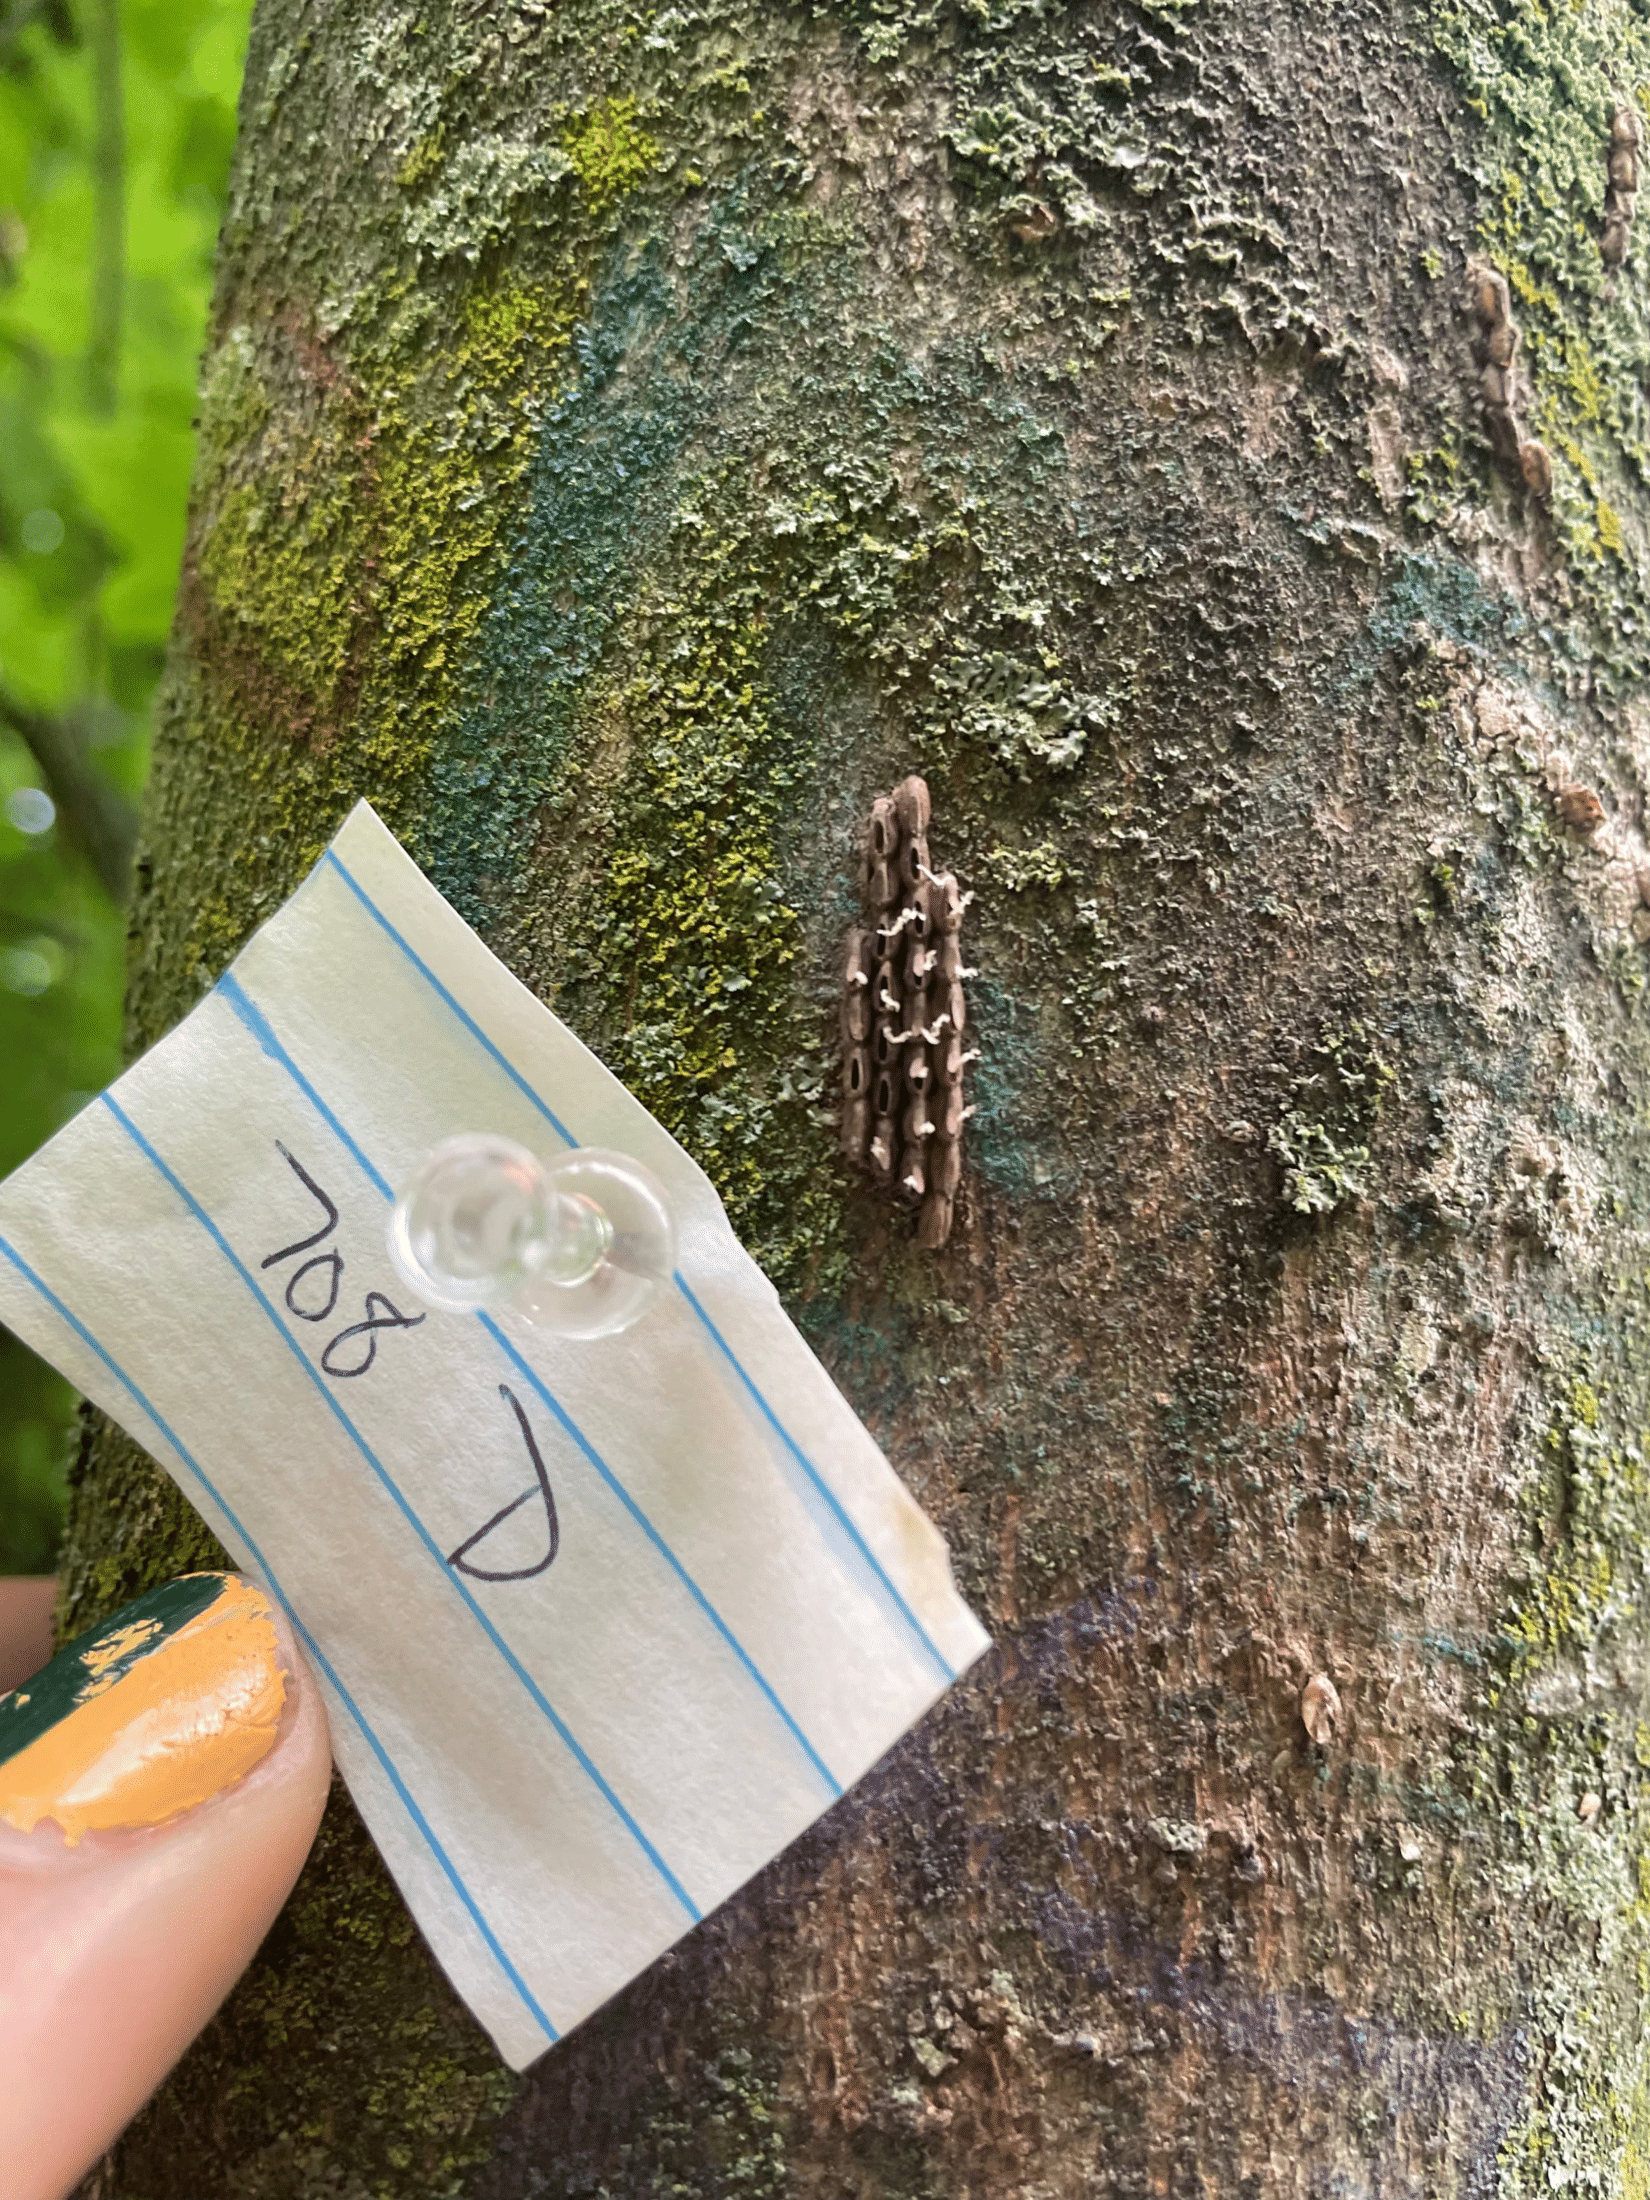egg masses: (698, 700, 1033, 1271), (1428, 241, 1589, 546), (1600, 47, 1650, 282)
